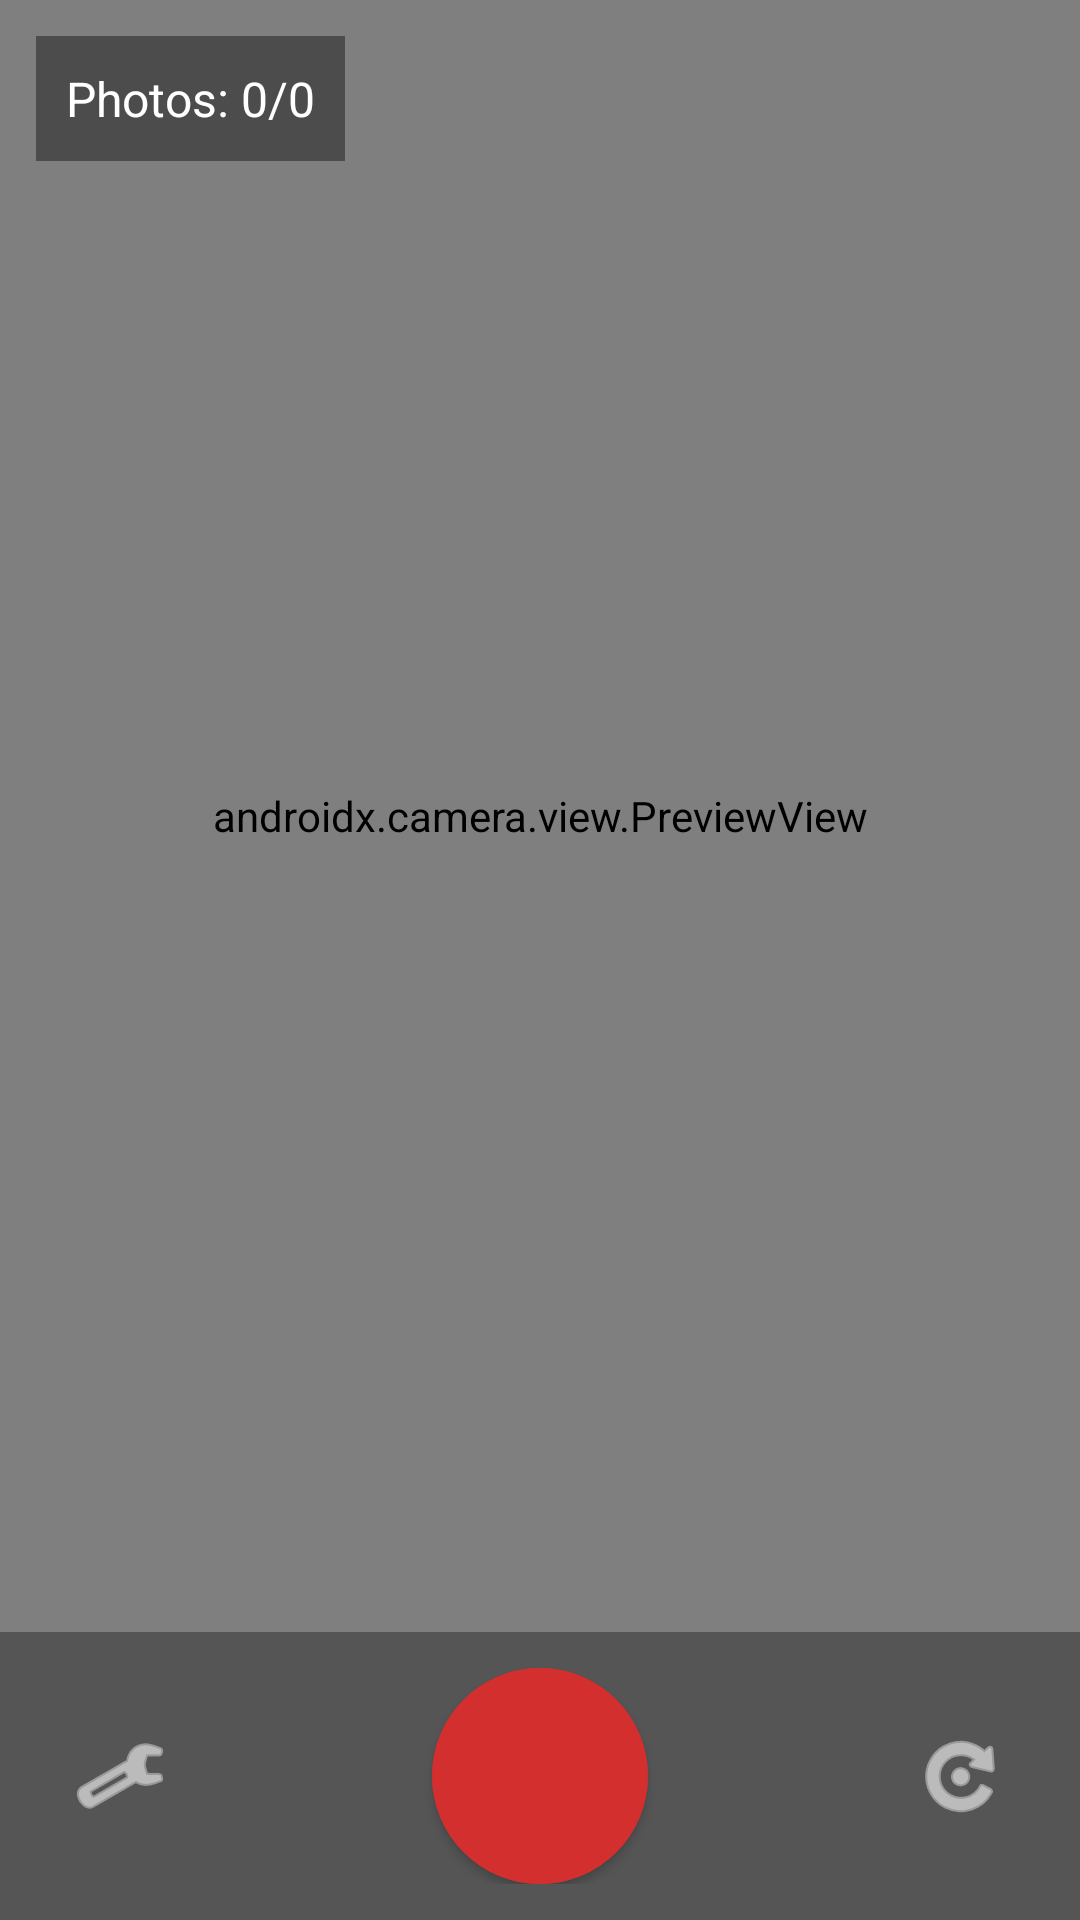

Icons on this 1080px×1920px Android screen, each with the point to tap as (x=x, y=y):
Settings: (x=120, y=1776)
